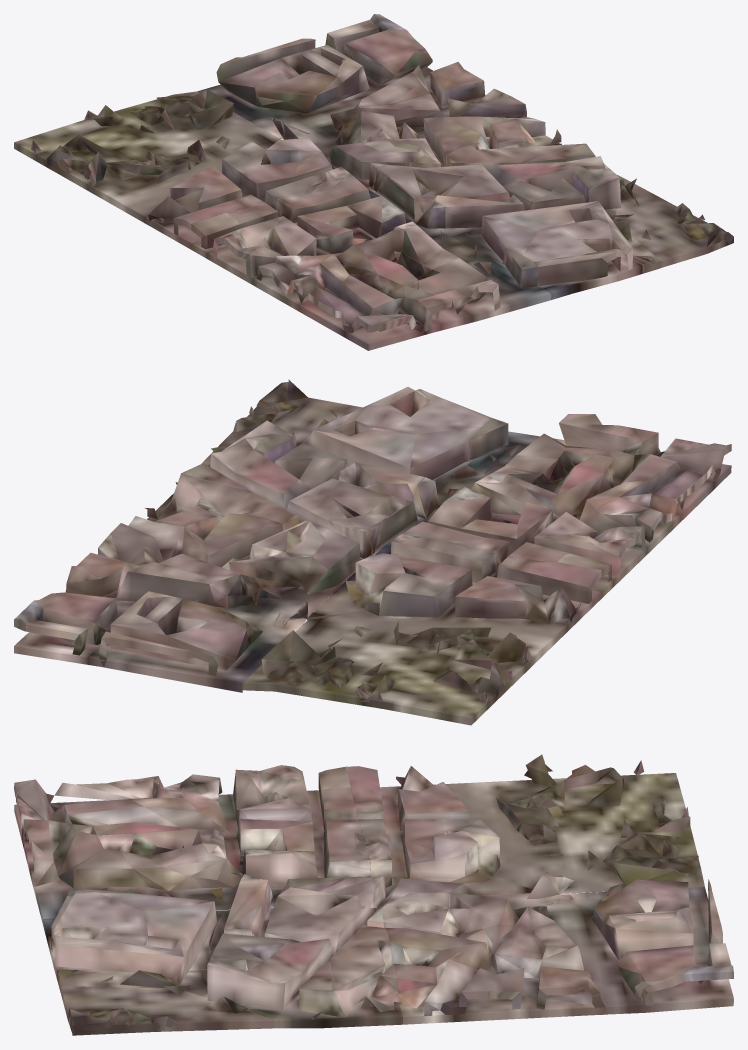
3 views of the same model, one above another, from view 1: azimuth 30°, elevation 25°; view 2: azimuth 150°, elevation 25°; view 3: azimuth 270°, elevation 25° (orthographic). The views are drawn at different scales.
Parts seen in each view (by area): view 1: Mesh_0; view 2: Mesh_0; view 3: Mesh_0.
Boxes of the visible parts, box(x1,y1,x2,y2) form: Mesh_0: box(14, 14, 733, 350); Mesh_0: box(14, 379, 731, 725); Mesh_0: box(14, 754, 733, 1035).
Size of the model in its own units: 532 by 57 by 659.
2 materials, 2 textured.
